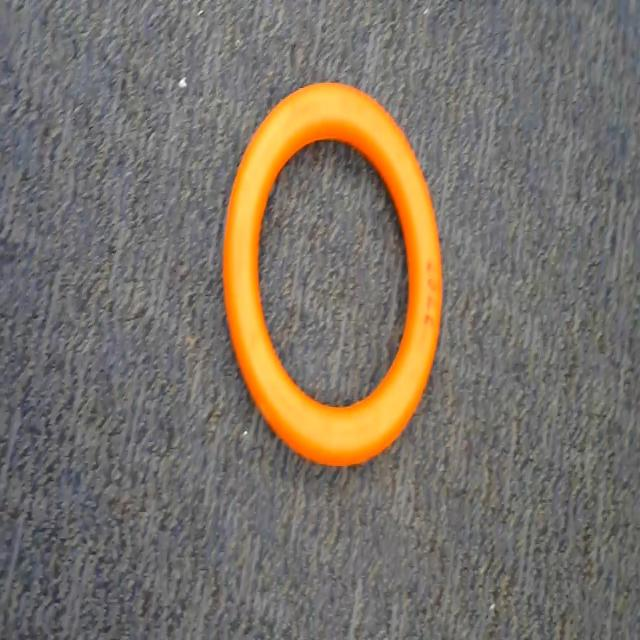note: (200, 73, 476, 492)
